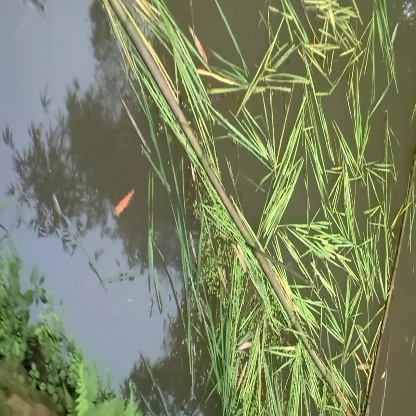grass: (241, 28, 359, 233)
